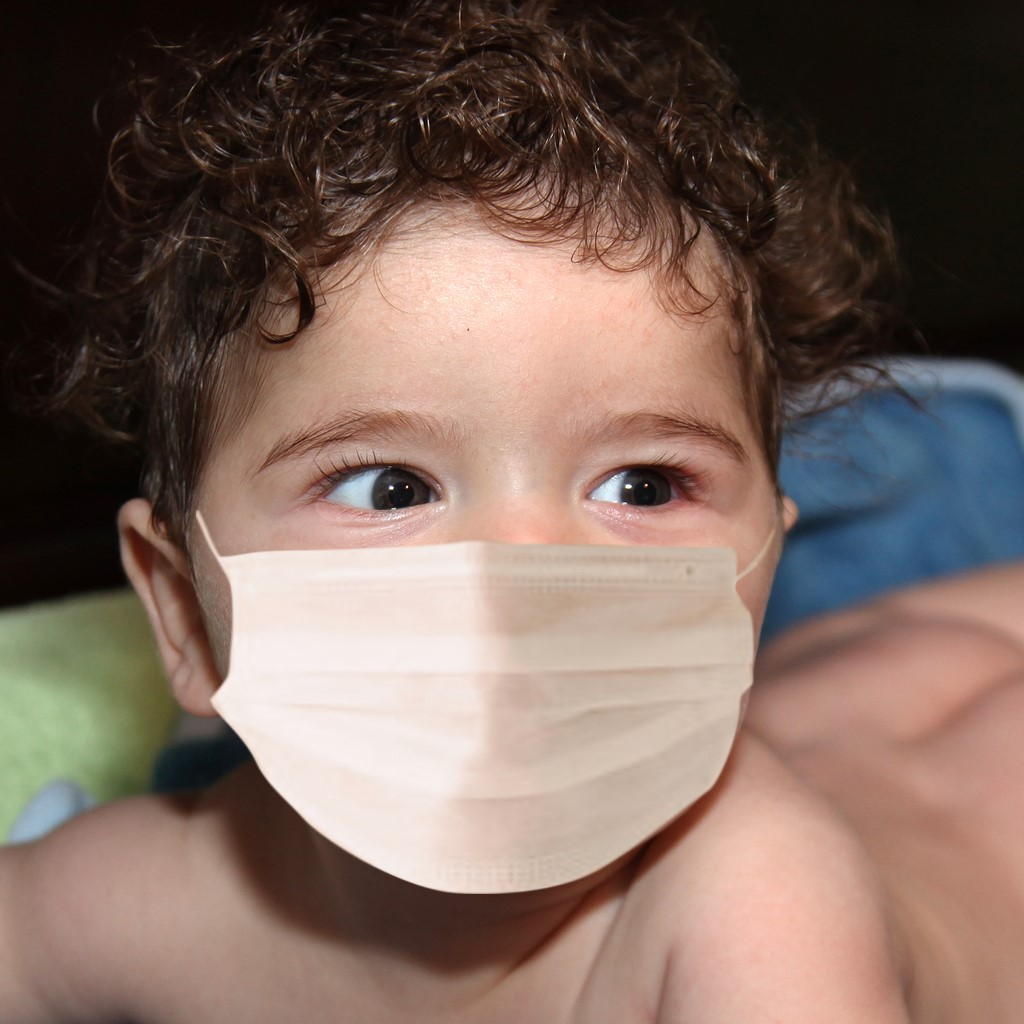con_mascara: (156, 119, 795, 900)
